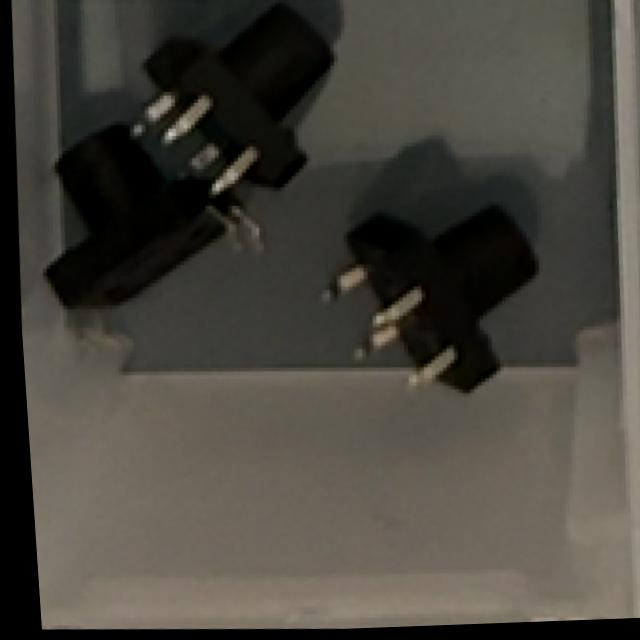Push Button: (21, 114, 275, 354), (307, 191, 558, 410), (121, 0, 347, 205)
